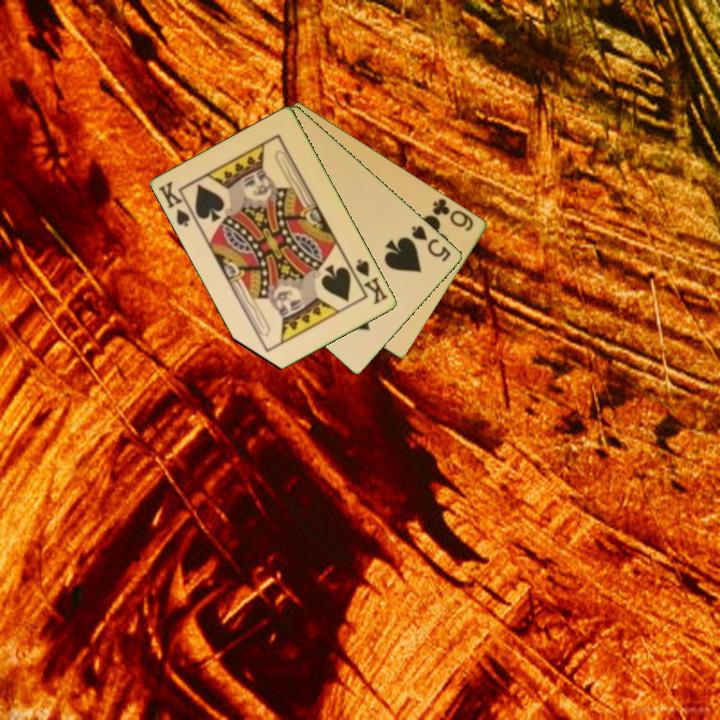5s: (408, 222, 455, 265)
6c: (429, 195, 477, 234)
Ks: (347, 255, 392, 308), (155, 178, 200, 230)
